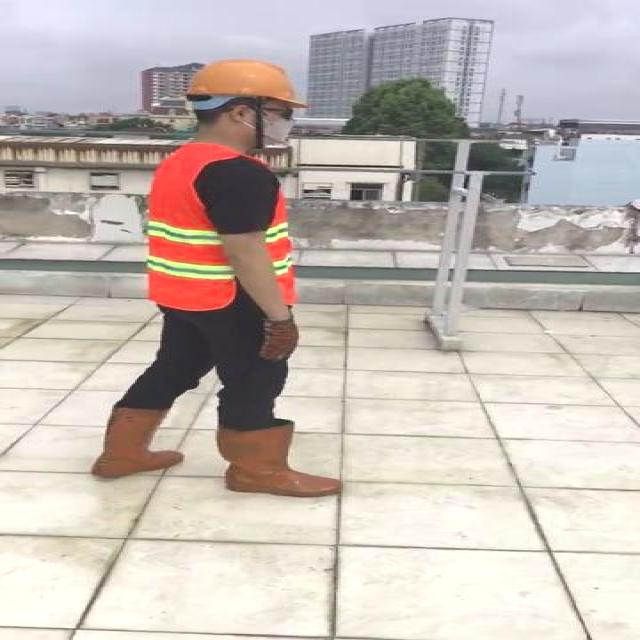boots: (219, 423, 341, 497), (93, 407, 183, 479)
face_mask: (248, 101, 301, 144)
hand_glove: (260, 318, 300, 362)
head_helmet: (186, 56, 306, 105)
person: (87, 55, 336, 498)
vest: (146, 145, 302, 310)
